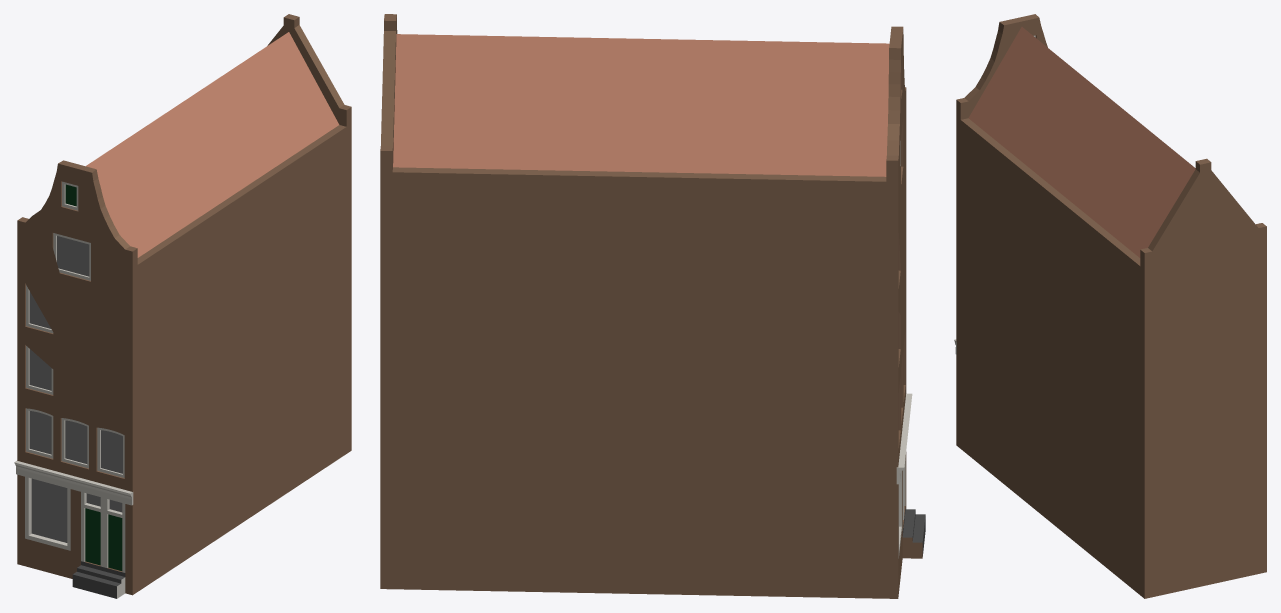
Rendered from Kattenburgerplein_7.fbx.
The picture shows the model from 3 angles, left to right: view 1: azimuth 30°, elevation 25°; view 2: azimuth 150°, elevation 25°; view 3: azimuth 270°, elevation 25°; orthographic projection. The views are drawn at different scales.
Parts seen in each view (by area): view 1: Kattenburgerplein_7, Kattenburgerplein_7_roof, Kattenburgerplein_7_lower_frame, window_bool_7.001, Cube.007; view 2: Kattenburgerplein_7, Kattenburgerplein_7_roof, Kattenburgerplein_7_lower_frame; view 3: Kattenburgerplein_7, Kattenburgerplein_7_roof.
Boxes of the visible parts, left/top/right/bottom form: Kattenburgerplein_7: left=17, top=14, right=351, bottom=595; Kattenburgerplein_7_roof: left=86, top=32, right=339, bottom=257; Kattenburgerplein_7_lower_frame: left=25, top=477, right=125, bottom=598; window_bool_7.001: left=26, top=181, right=124, bottom=477; Cube.007: left=14, top=460, right=133, bottom=505; Kattenburgerplein_7: left=380, top=14, right=906, bottom=598; Kattenburgerplein_7_roof: left=393, top=34, right=889, bottom=176; Kattenburgerplein_7_lower_frame: left=898, top=458, right=925, bottom=593; Kattenburgerplein_7: left=956, top=14, right=1266, bottom=598; Kattenburgerplein_7_roof: left=968, top=27, right=1195, bottom=257.
Bounding box in the file's own units: 1368 × 1477 × 992.
